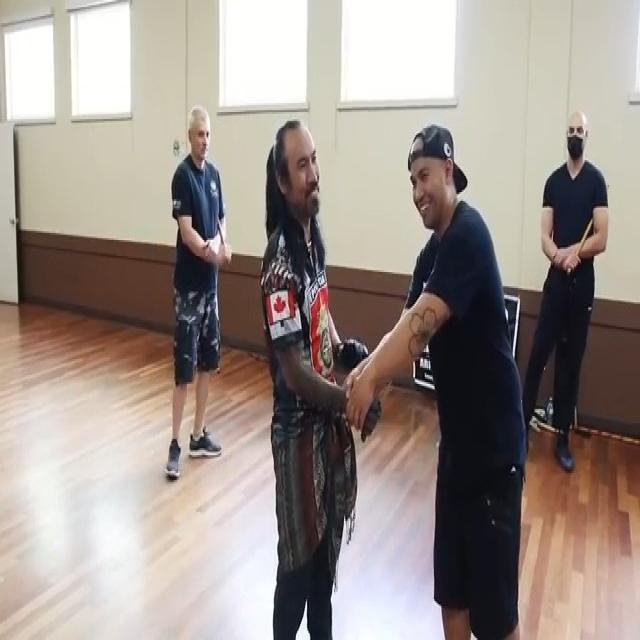Sharp-Object: (360, 378, 392, 447)
